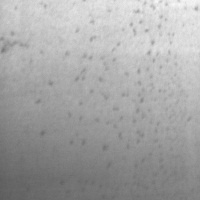pitted_surface: (66, 1, 184, 158)
